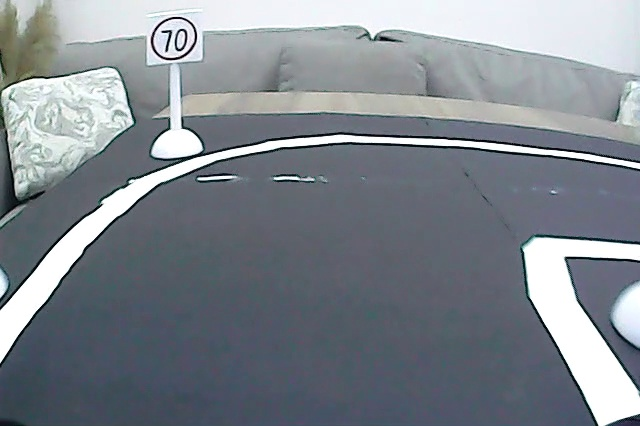speed limit 70: (148, 15, 199, 62)
